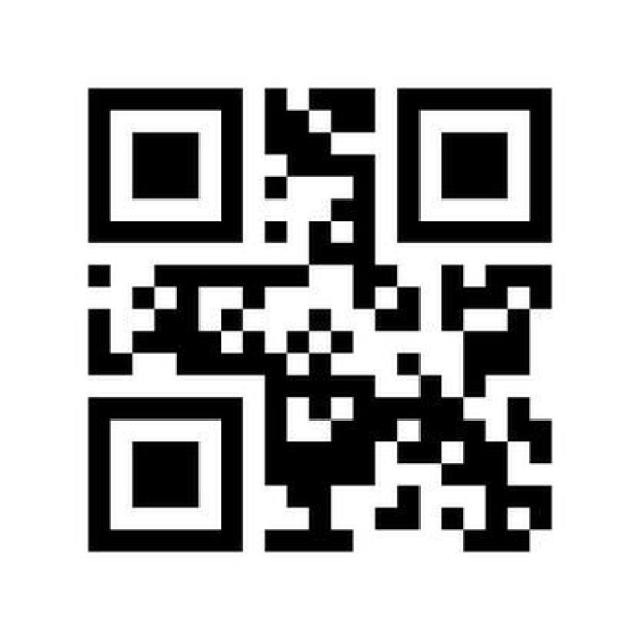QRCode: (79, 72, 568, 564)
